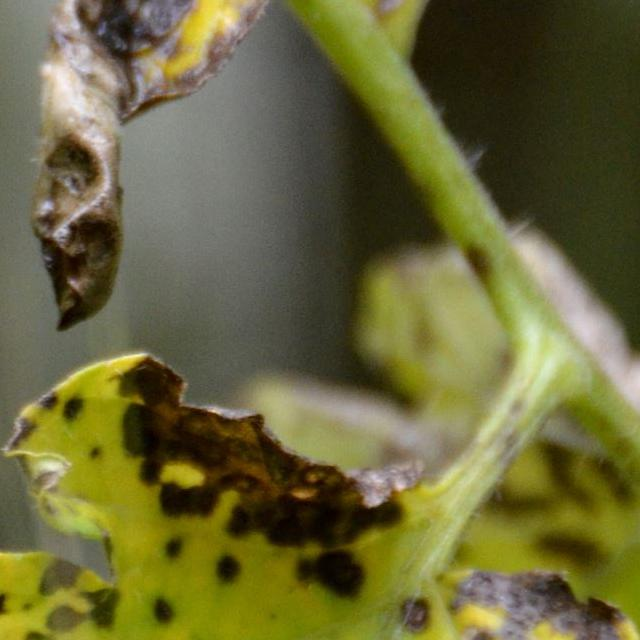Tomato Septoria leaf spot: (0, 366, 640, 640)
